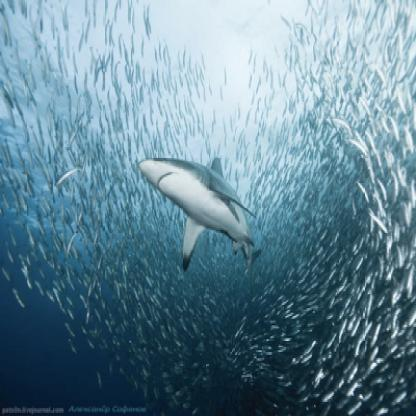shark: (135, 142, 264, 283)
